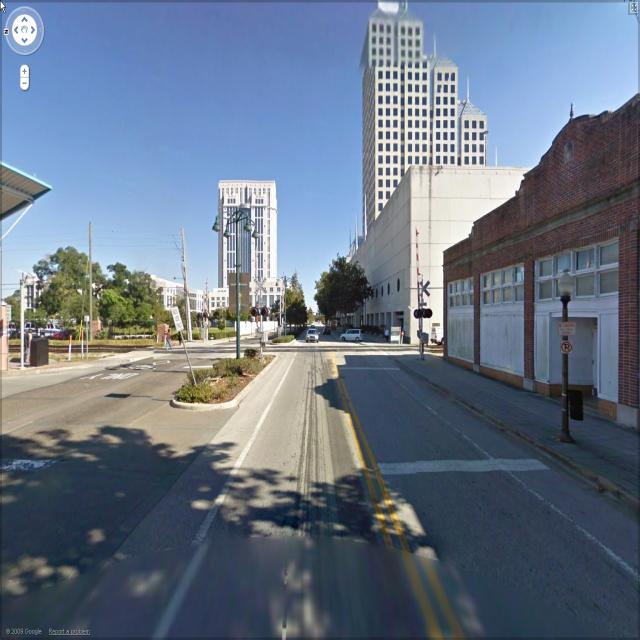b_1: (436, 116, 640, 372), (355, 152, 513, 340), (356, 4, 492, 202), (204, 176, 290, 346)
b_2: (10, 256, 222, 334)
